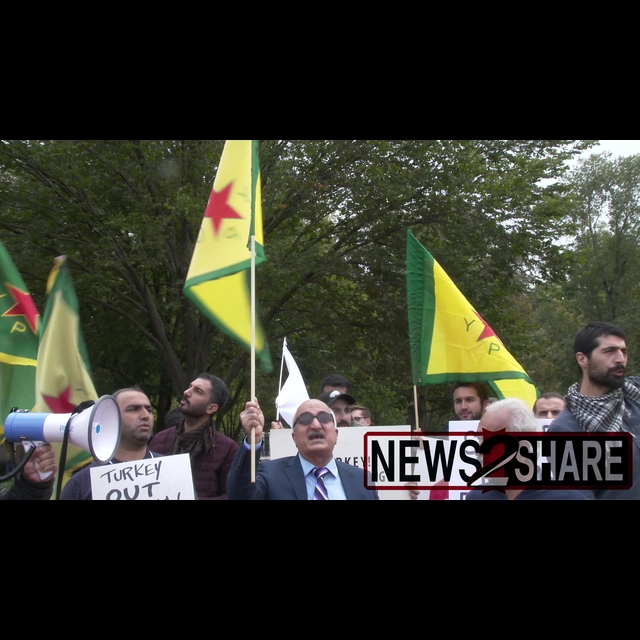YPG: (395, 229, 530, 386), (189, 165, 256, 252)
